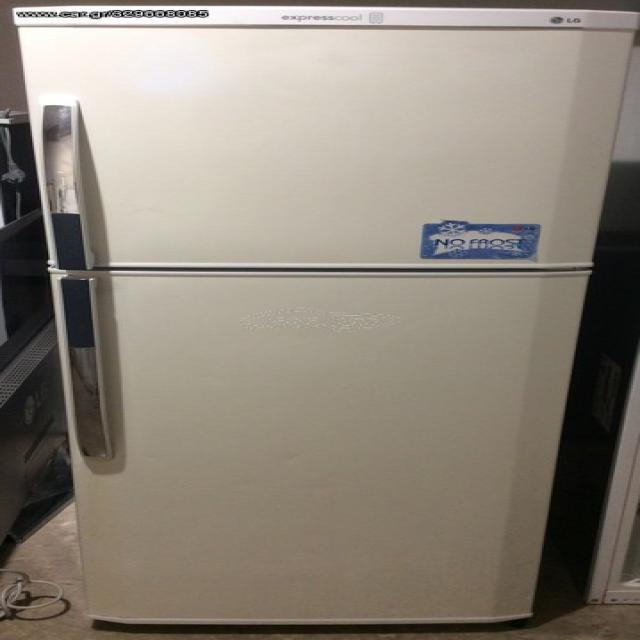refrigerator: (8, 8, 616, 630)
